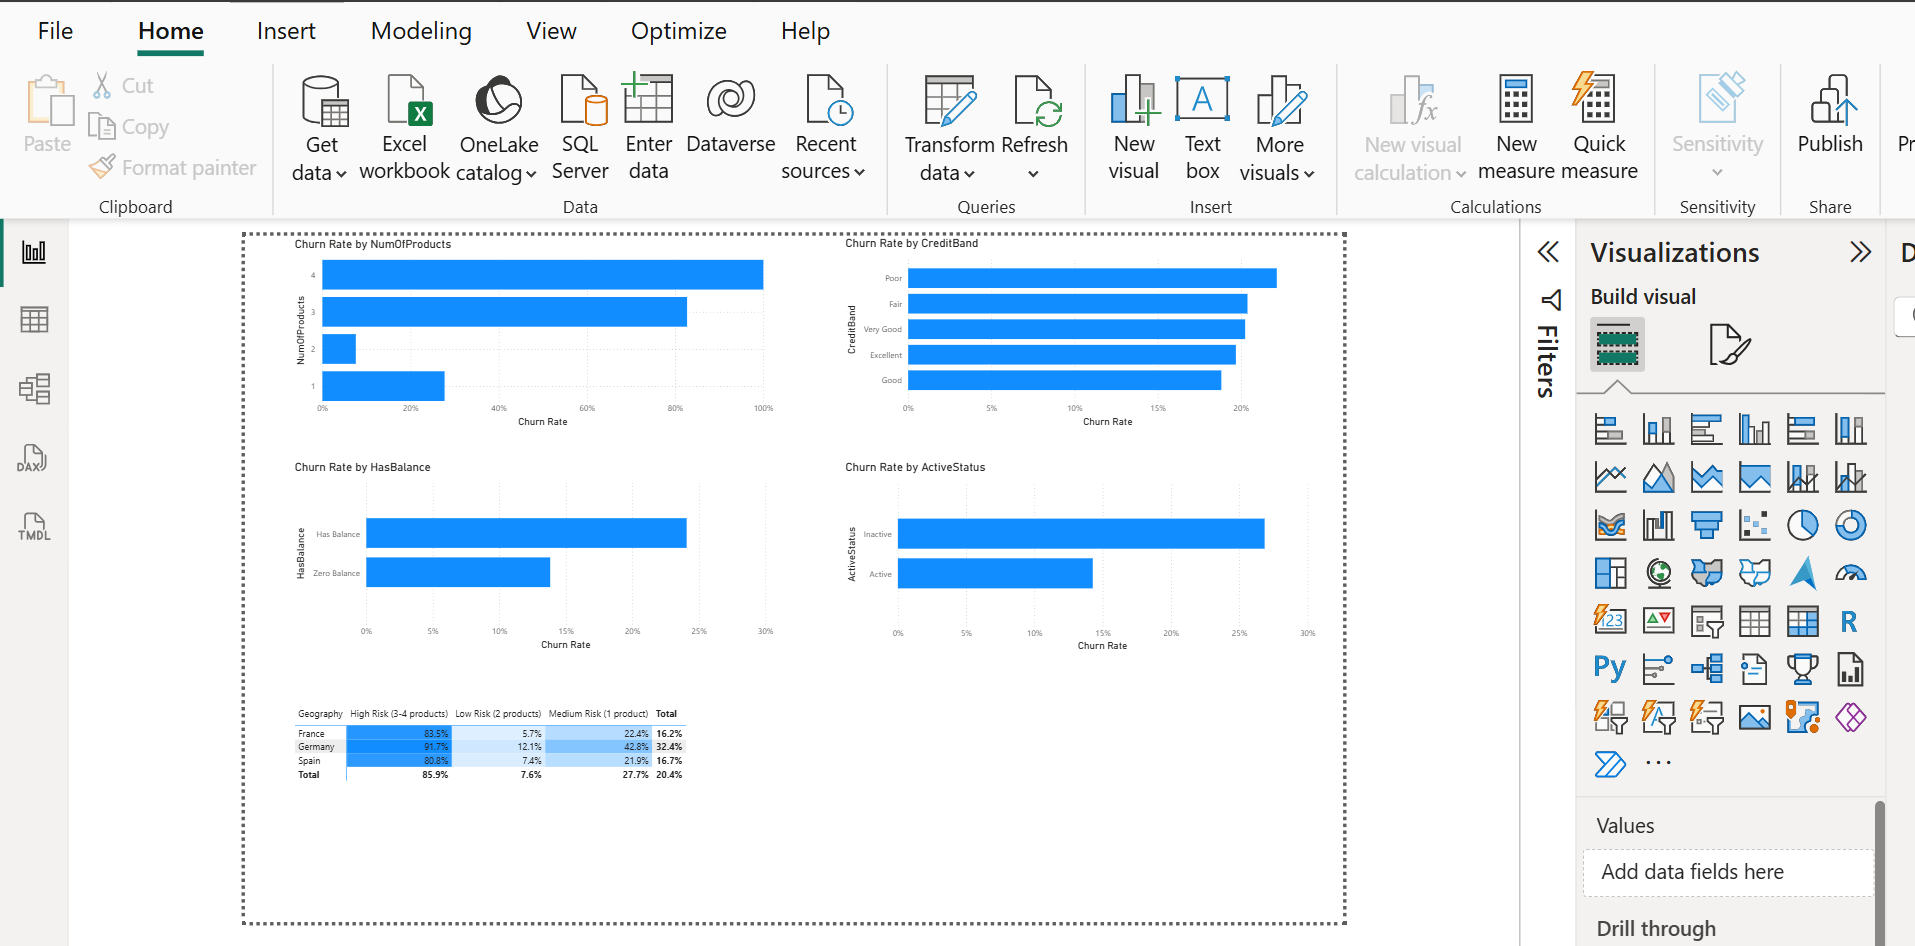

What the dashboard file says about the page in this screenshot:
{"tool":"powerbi","page":{"name":"Churn Drivers","canvas":[1280,720],"ordinal":1},"visuals":[{"type":"clusteredBarChart","fields":{"Category":["Bank_Churn.NumOfProducts"],"Y":["Bank_Churn.Churn Rate"]},"box":[68,2,332,280],"z":0},{"type":"clusteredBarChart","fields":{"Category":["Bank_Churn.ActiveStatus"],"Y":["Bank_Churn.Churn Rate"]},"box":[468,0,342,282],"z":1000},{"type":"clusteredBarChart","fields":{"Category":["Bank_Churn.CreditBand"],"Y":["Bank_Churn.Churn Rate"]},"box":[870,0,374,282],"z":2000},{"type":"clusteredBarChart","fields":{"Category":["Bank_Churn.HasBalance"],"Y":["Bank_Churn.Churn Rate"]},"box":[44,312,280,280],"z":3000},{"type":"pivotTable","title":"Churn Rate by Geography","fields":{"Rows":["Bank_Churn.Geography"],"Columns":["Bank_Churn.ProductRisk"],"Values":["Bank_Churn.Churn Rate"]},"box":[540,328,610,264],"z":4000}]}

Visuals, with their boxes on the page's 1280x720 design canvas (x1, y1, x2, y2). These are canvas units, not pixel positions in the 1915x946 screenshot, which may show the page scaled, cropped or inside an application window:
clusteredBarChart - Bank_Churn.NumOfProducts x Bank_Churn.Churn Rate: detection(68, 2, 400, 282)
clusteredBarChart - Bank_Churn.ActiveStatus x Bank_Churn.Churn Rate: detection(468, 0, 810, 282)
clusteredBarChart - Bank_Churn.CreditBand x Bank_Churn.Churn Rate: detection(870, 0, 1244, 282)
clusteredBarChart - Bank_Churn.HasBalance x Bank_Churn.Churn Rate: detection(44, 312, 324, 592)
"Churn Rate by Geography" pivotTable: detection(540, 328, 1150, 592)
